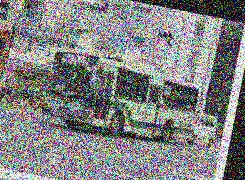bus: (41, 46, 204, 153)
